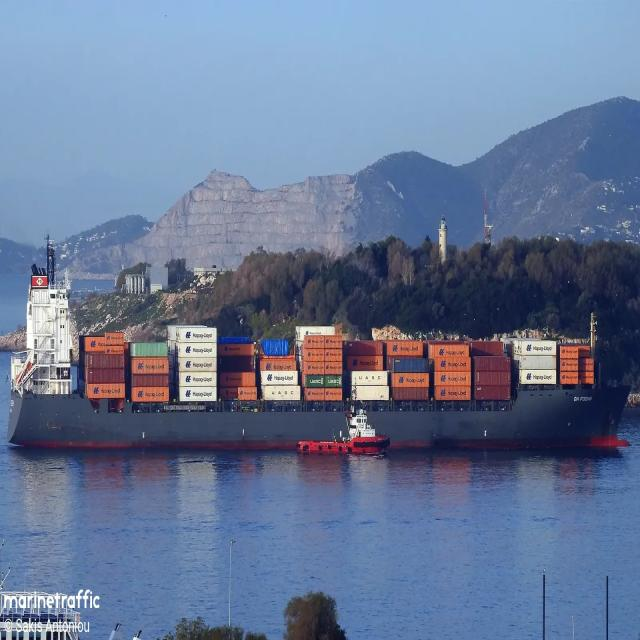Cargo: (8, 241, 629, 449)
Tug: (297, 409, 390, 454)
